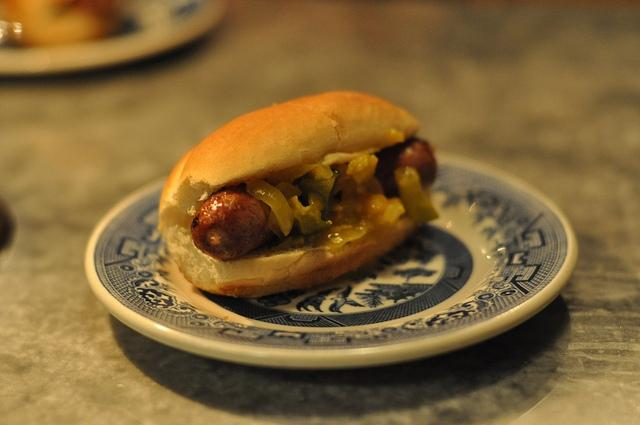onion: (246, 180, 294, 236), (395, 166, 437, 225), (268, 182, 303, 239), (287, 191, 332, 235), (293, 173, 341, 204), (266, 164, 320, 188), (346, 153, 378, 185), (328, 229, 366, 248), (364, 192, 388, 217), (272, 235, 304, 252), (308, 164, 333, 180), (384, 204, 402, 224)
